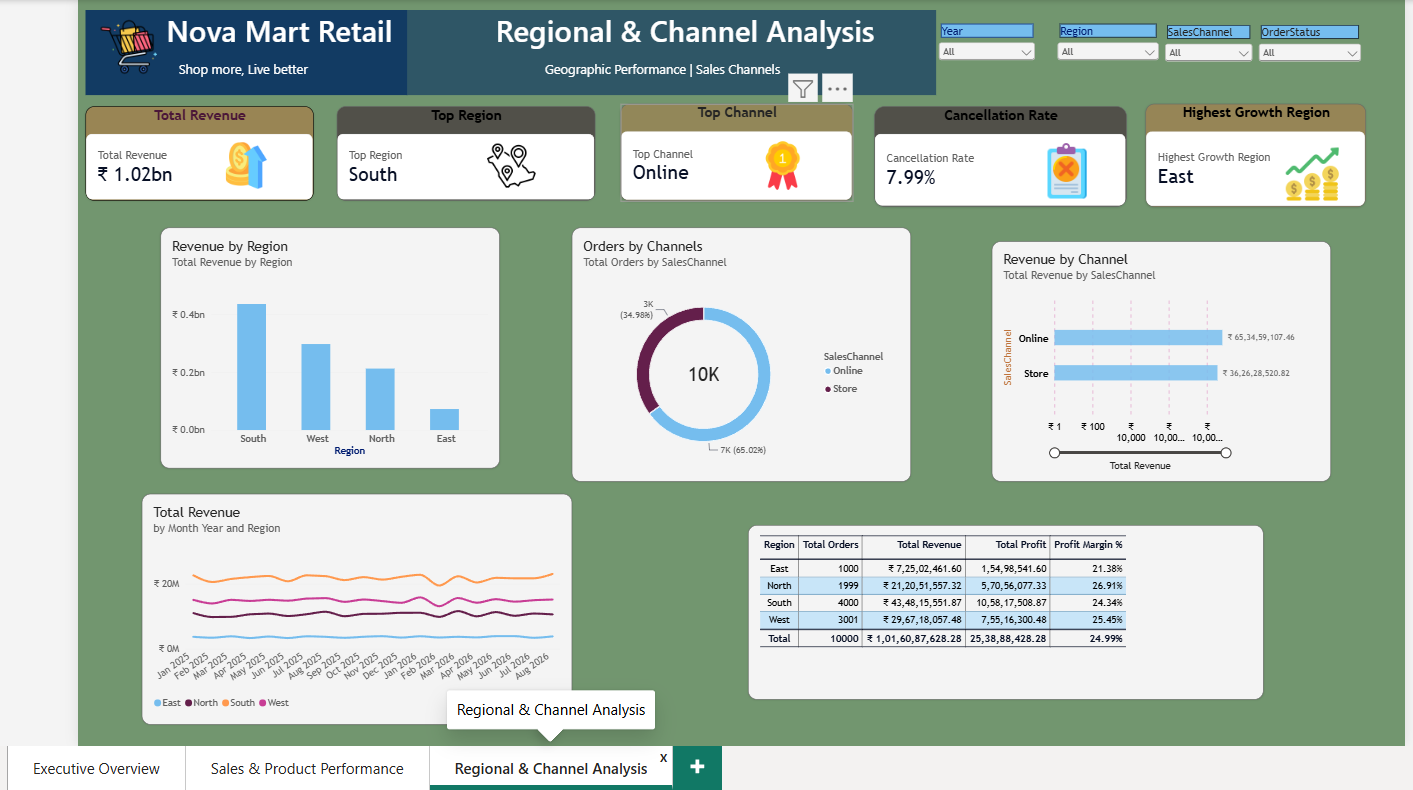

Layout of this report page (visuals, bound fields, positions):
{"tool":"powerbi","page":{"name":"Regional & Channel Analysis","canvas":[1920,1080],"ordinal":2},"visuals":[{"type":"textbox","box":[10.8,15.1,465.3,123.4],"z":0},{"type":"textbox","box":[476.1,15.1,766.1,123.4],"z":1000},{"type":"slicer","fields":{"Values":["DateTable.Year"]},"box":[1242.2,34.6,149.3,62.8],"z":2000},{"type":"slicer","fields":{"Values":["vw_SalesAnalysis.Region"]},"box":[1413.2,34.6,155.8,82.2],"z":3000},{"type":"slicer","fields":{"Values":["vw_SalesAnalysis.SalesChannel"]},"box":[1569,36.8,136.3,69.3],"z":4000},{"type":"slicer","fields":{"Values":["vw_SalesAnalysis.OrderStatus"]},"box":[1705.3,36.8,158,77.9],"z":5000},{"type":"cardVisual","title":"Top Region","fields":{"Data":["vw_SalesAnalysis.Top Region"]},"box":[374.2,154.1,374.2,136.5],"z":6000},{"type":"cardVisual","title":"Total Revenue","fields":{"Data":["vw_SalesAnalysis.Total Revenue"]},"box":[11,154.1,330.2,136.5],"z":7000},{"type":"cardVisual","title":"Top Channel","fields":{"Data":["vw_SalesAnalysis.Top Channel"]},"box":[785.8,149.7,336.8,140.9],"z":8000},{"type":"cardVisual","title":"Cancellation Rate","fields":{"Data":["vw_SalesAnalysis.Cancellation Rate"]},"box":[1153.4,154.1,365.4,145.3],"z":9000},{"type":"cardVisual","title":"Highest Growth Region","fields":{"Data":["vw_SalesAnalysis.Highest Growth Region"]},"box":[1545.2,149.7,319.2,149.7],"z":10000},{"type":"clusteredColumnChart","title":"Revenue by Region","fields":{"Category":["vw_SalesAnalysis.Region"],"Y":["vw_SalesAnalysis.Total Revenue"]},"box":[118.9,330.2,491.3,348.4],"z":11000},{"type":"donutChart","title":"Orders by Channels","fields":{"Category":["vw_SalesAnalysis.SalesChannel"],"Y":["vw_SalesAnalysis.Total Orders"]},"box":[715.4,330.2,491.3,367.9],"z":12000},{"type":"clusteredBarChart","title":"Revenue by Channel","fields":{"Category":["vw_SalesAnalysis.SalesChannel"],"Y":["vw_SalesAnalysis.Total Revenue"]},"box":[1322.9,350,491,348],"z":13000},{"type":"lineChart","fields":{"Category":["DateTable.Month Year"],"Series":["vw_SalesAnalysis.Region"],"Y":["vw_SalesAnalysis.Total Revenue"]},"box":[92.4,715.4,622.9,334.6],"z":14000},{"type":"tableEx","fields":{"Values":["vw_SalesAnalysis.Region","vw_SalesAnalysis.Total Orders","vw_SalesAnalysis.Total Revenue","vw_SalesAnalysis.Total Profit","vw_SalesAnalysis.Profit Margin %"]},"box":[970.7,759.4,746.2,253.1],"z":15000},{"type":"image","box":[26.4,26.4,92.4,81.4],"z":16000},{"type":"image","box":[1736.7,213.5,99.1,77],"z":17000},{"type":"image","box":[1373.5,204.7,116.7,85.8],"z":18000},{"type":"image","box":[955.3,204.7,129.9,70.4],"z":19000},{"type":"image","box":[561.3,204.7,132.1,70.4],"z":20000},{"type":"image","box":[184.9,204.7,118.9,70.4],"z":21000}]}

Visuals, with their boxes on the page's 1920x1080 design canvas (x1, y1, x2, y2). These are canvas units, not pixel positions in the 1413x790 screenshot, which may show the page scaled, cropped or inside an application window:
textbox: [left=11, top=15, right=476, bottom=138]
textbox: [left=476, top=15, right=1242, bottom=138]
slicer - DateTable.Year: [left=1242, top=35, right=1392, bottom=97]
slicer - vw_SalesAnalysis.Region: [left=1413, top=35, right=1569, bottom=117]
slicer - vw_SalesAnalysis.SalesChannel: [left=1569, top=37, right=1705, bottom=106]
slicer - vw_SalesAnalysis.OrderStatus: [left=1705, top=37, right=1863, bottom=115]
"Top Region" cardVisual: [left=374, top=154, right=748, bottom=291]
"Total Revenue" cardVisual: [left=11, top=154, right=341, bottom=291]
"Top Channel" cardVisual: [left=786, top=150, right=1123, bottom=291]
"Cancellation Rate" cardVisual: [left=1153, top=154, right=1519, bottom=299]
"Highest Growth Region" cardVisual: [left=1545, top=150, right=1864, bottom=299]
"Revenue by Region" clusteredColumnChart: [left=119, top=330, right=610, bottom=679]
"Orders by Channels" donutChart: [left=715, top=330, right=1207, bottom=698]
"Revenue by Channel" clusteredBarChart: [left=1323, top=350, right=1814, bottom=698]
lineChart - DateTable.Month Year x vw_SalesAnalysis.Region: [left=92, top=715, right=715, bottom=1050]
tableEx - vw_SalesAnalysis.Region x vw_SalesAnalysis.Total Orders: [left=971, top=759, right=1717, bottom=1012]
image: [left=26, top=26, right=119, bottom=108]
image: [left=1737, top=214, right=1836, bottom=290]
image: [left=1374, top=205, right=1490, bottom=290]
image: [left=955, top=205, right=1085, bottom=275]
image: [left=561, top=205, right=693, bottom=275]
image: [left=185, top=205, right=304, bottom=275]
